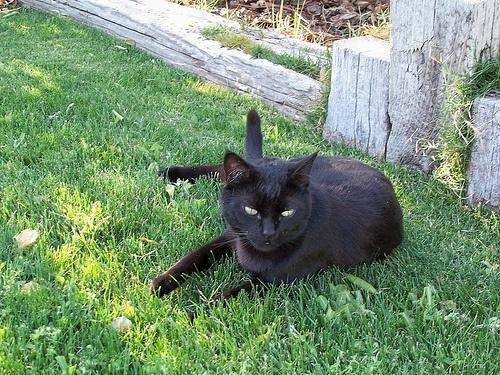cat: (146, 111, 407, 312)
